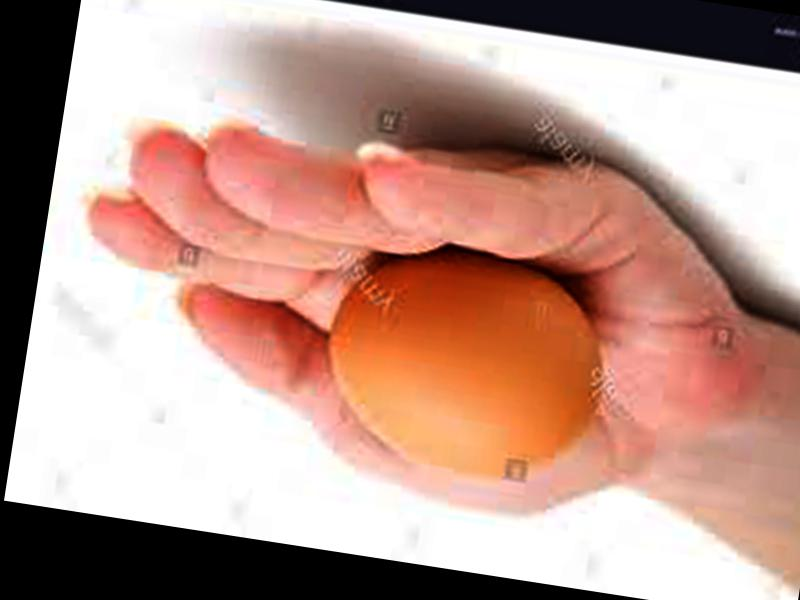Eggs: (314, 236, 619, 498)
